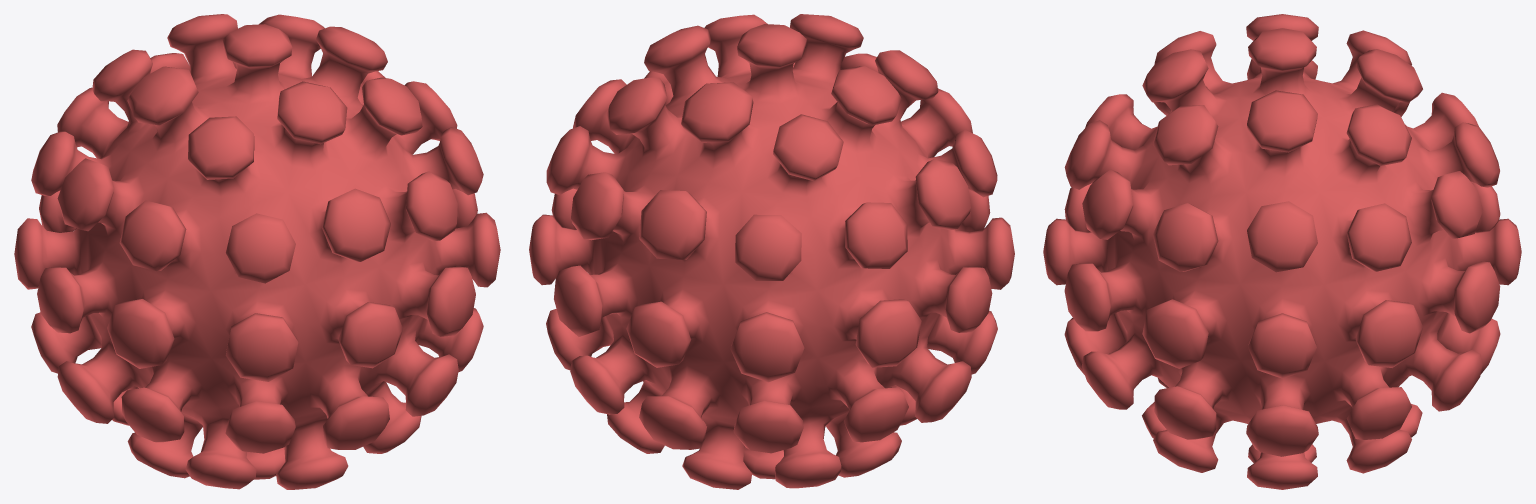
File: coronavirus.fbx
The picture shows the model from 3 angles, left to right: view 1: azimuth 30°, elevation 25°; view 2: azimuth 150°, elevation 25°; view 3: azimuth 270°, elevation 25°; orthographic projection.
Parts seen in each view (by area): view 1: Coronavirus; view 2: Coronavirus; view 3: Coronavirus.
Part boxes in pixels (left/top/right/bottom): Coronavirus: left=14, top=14, right=500, bottom=489; Coronavirus: left=529, top=14, right=1014, bottom=489; Coronavirus: left=1043, top=14, right=1521, bottom=489.
Size of the model in its own units: 109 by 109 by 109.
